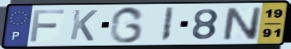8: (191, 7, 219, 40)
F: (28, 9, 67, 44)
G: (107, 6, 146, 45)
I: (159, 6, 176, 43)
K: (68, 9, 100, 43)
N: (221, 6, 263, 42)
